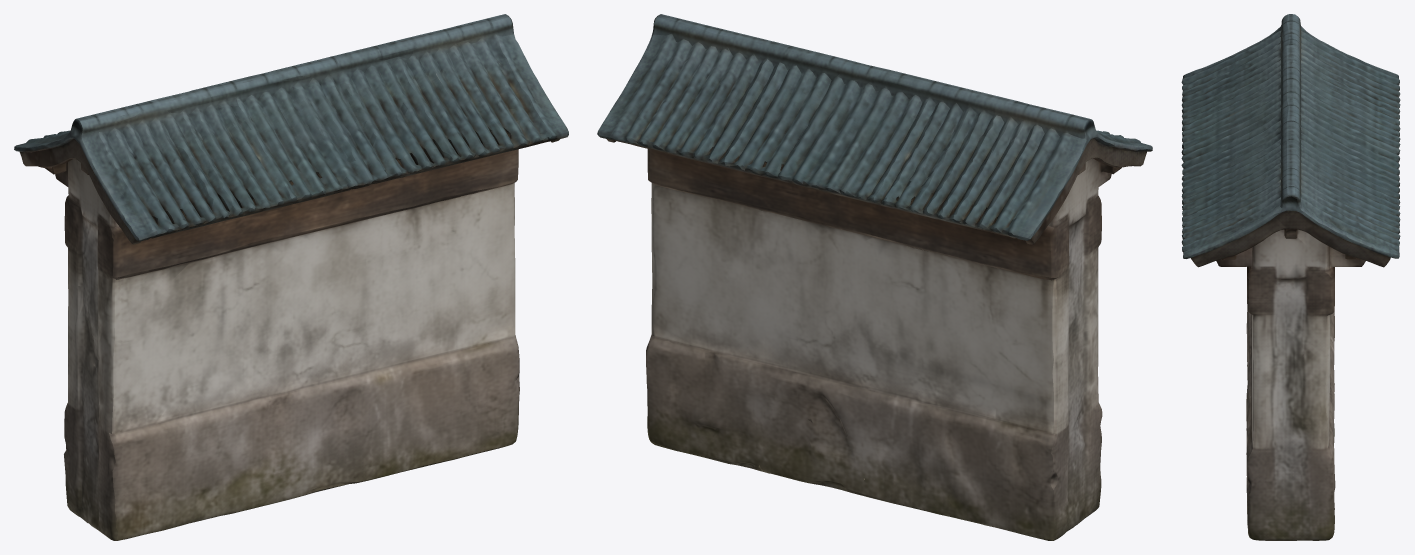
Rendered from ARCH-017.glb.
3 views of the same model, side by side, from view 1: azimuth 30°, elevation 25°; view 2: azimuth 150°, elevation 25°; view 3: azimuth 270°, elevation 25° (orthographic). The views are drawn at different scales.
Parts seen in each view (by area): view 1: world; view 2: world; view 3: world.
Boxes of the visible parts, x1,y1,x2,y2 form: world: (14,14,568,540); world: (597,14,1152,540); world: (1181,14,1400,540).
Size of the model in its own units: 3.11 by 2.8 by 1.57.
Materials: 1 (1 with a texture image).
